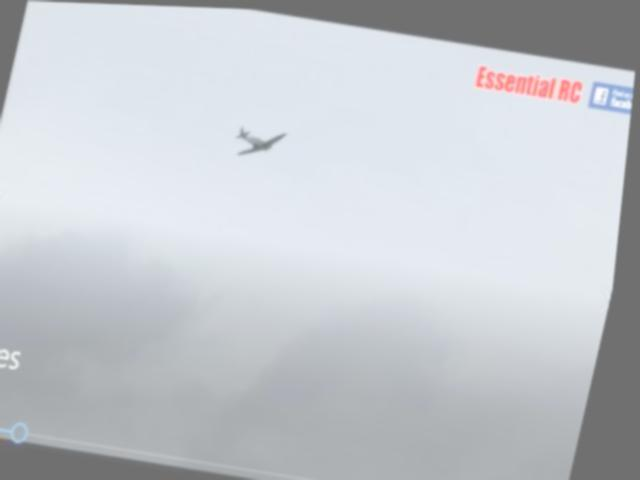uav: (230, 119, 291, 164)
